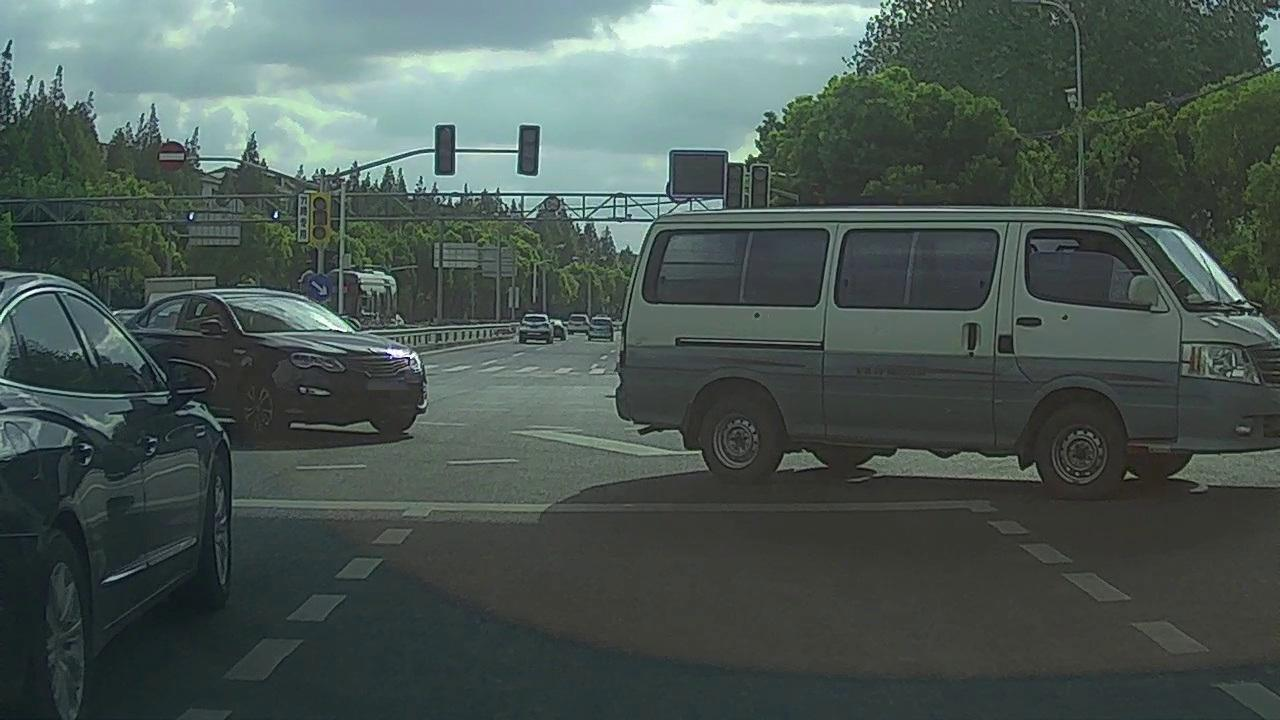traffic_light: (435, 124, 457, 176), (520, 123, 539, 176), (753, 165, 768, 208), (727, 164, 741, 208)
